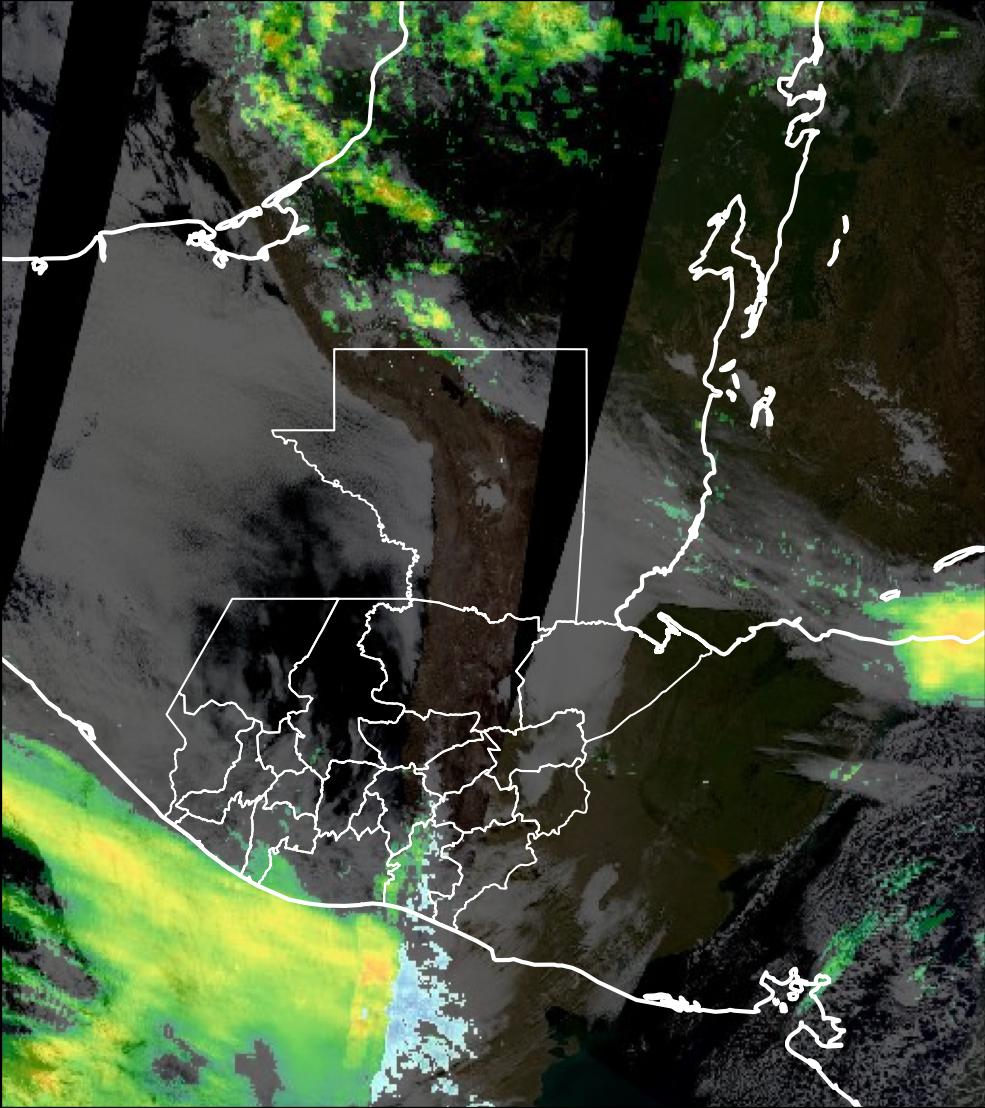precipitacion: (872, 574, 985, 692)
